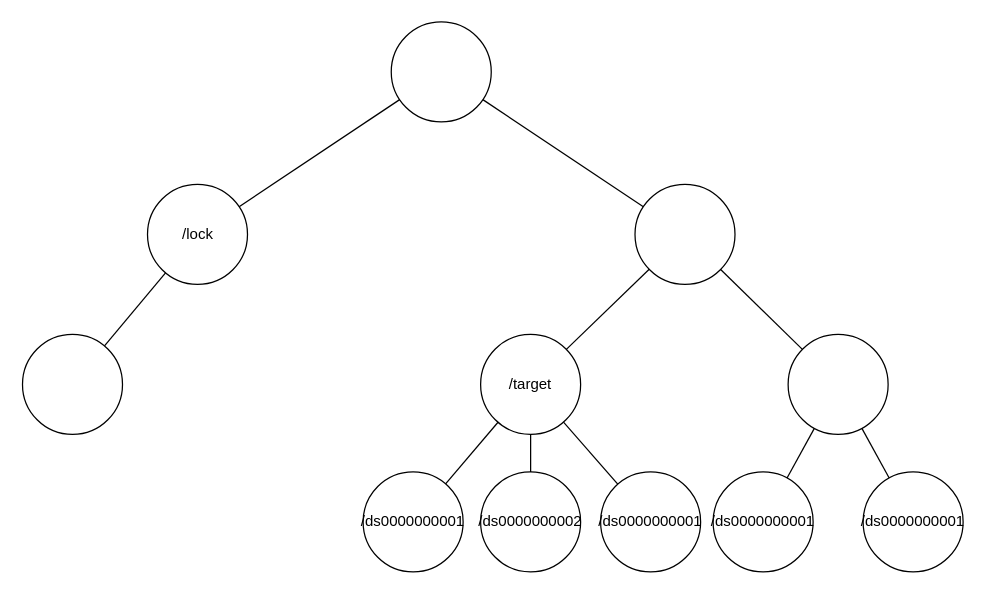
Some shapes in this 986 by 594 pixel diagram are drawn without their labels. Each missing label, with the centre of its shape:
/assigned: the point at 837,383
/deepstream: the point at 684,233
/synchronize-job: the point at 71,383
ZK /: the point at 440,71
